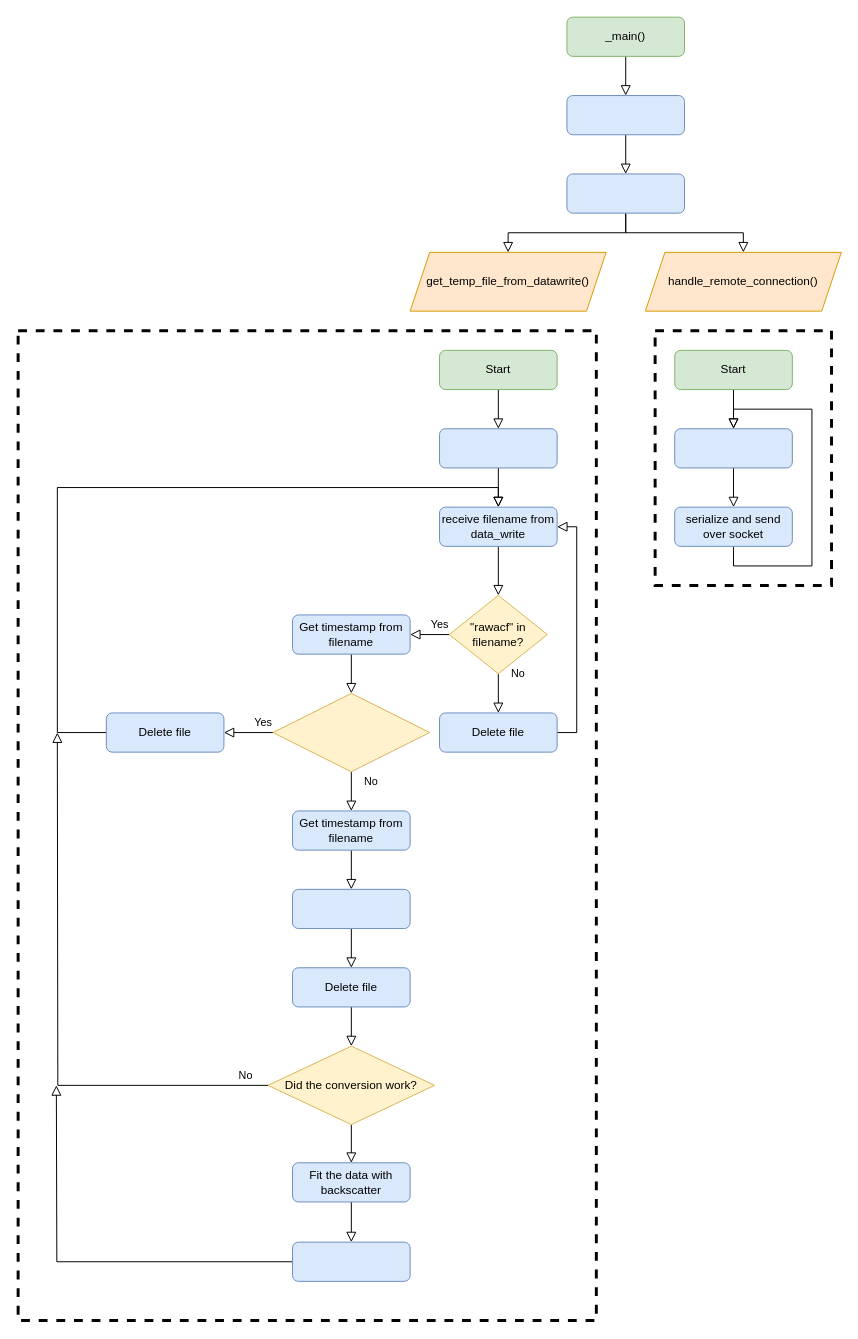
This 858x1339 diagram has some shape labels left out. Each missing label, with the centre of its shape:
Create a queue: (x=625, y=193)
Create sockets: (x=625, y=115)
get data from queue: (x=733, y=448)
last_file_time = None: (x=498, y=448)
Put fitted data in the queue: (x=351, y=1261)
timestamp same as last_file_time?: (x=351, y=732)
Try to convert file to DMAP format: (x=351, y=908)
